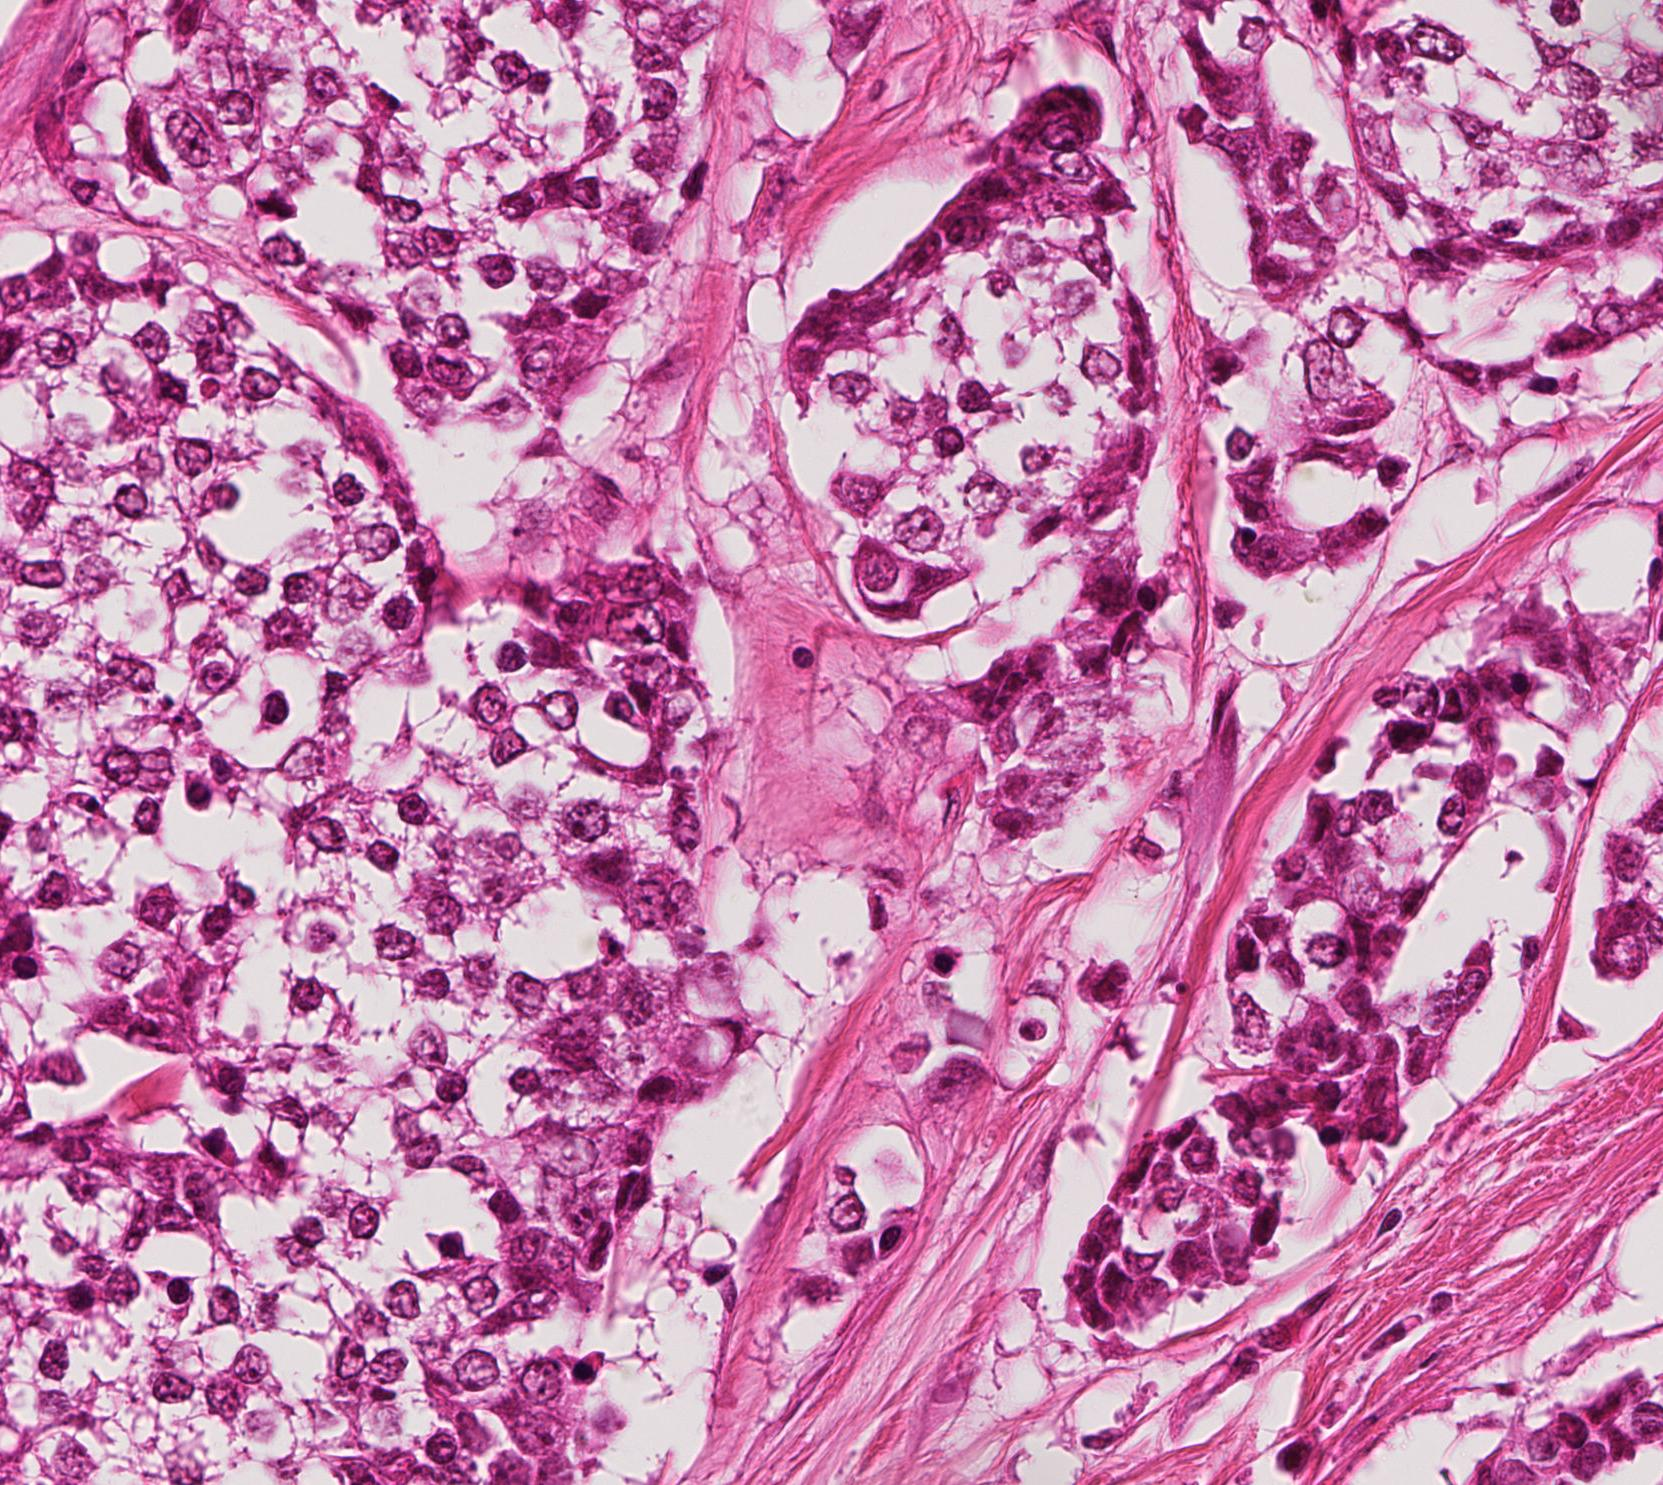mitosis: (238, 171, 298, 229)
